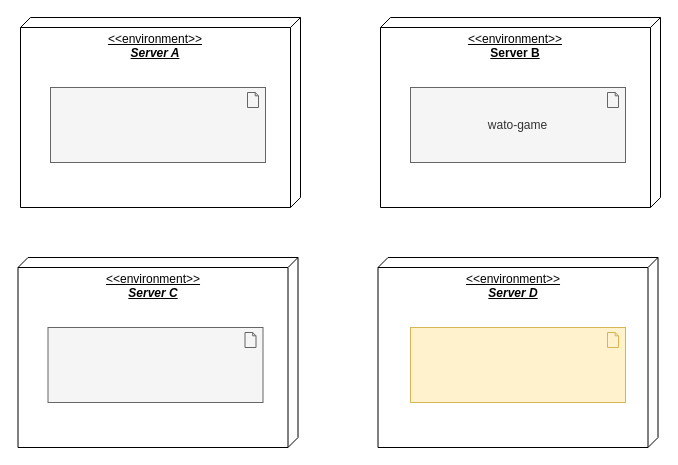
Some shapes in this 678 by 465 pixel diagram are drawn without their labels. Each missing label, with the centre of its shape:
wato-frontend: the point at 518,364
wato-gateway: the point at 158,124
wato-user: the point at 155,364
